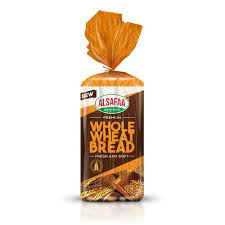bread: (73, 13, 147, 204)
